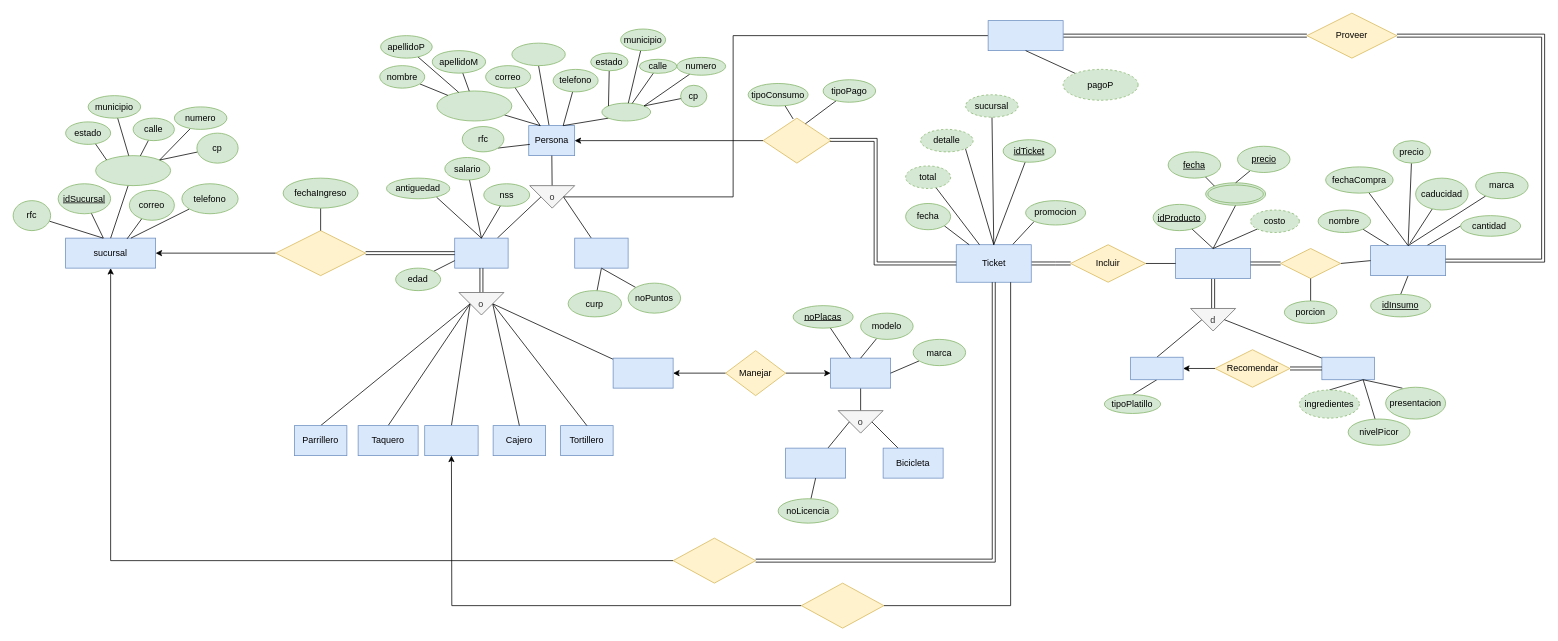
This 1558x641 diagram has some shape labels left out. The centre of each missing label's shape, as x and y in pixels:
"Alimento" goes at [1213,263].
"Atender" goes at [842,605].
"Cliente" goes at [601,252].
"Contener" goes at [1310,263].
"direccion" goes at [626,111].
"domicilio" goes at [133,170].
"Empleado" goes at [481,252].
"idPersona" goes at [538,54].
"Insumo" goes at [1408,260].
"Mesero" goes at [451,440].
"Motocicleta" goes at [815,462].
"nombreCompleto" goes at [474,105].
"Pagar" goes at [796,140].
"Pertenecer" goes at [714,560].
"Platillo" goes at [1156,368].
"precios" goes at [1235,193].
"Provedor" goes at [1025,35].
"Repartidor" goes at [642,372].
"Salsa" goes at [1347,368].
"Trabajar" goes at [320,253].
"transporte" goes at [860,372].
